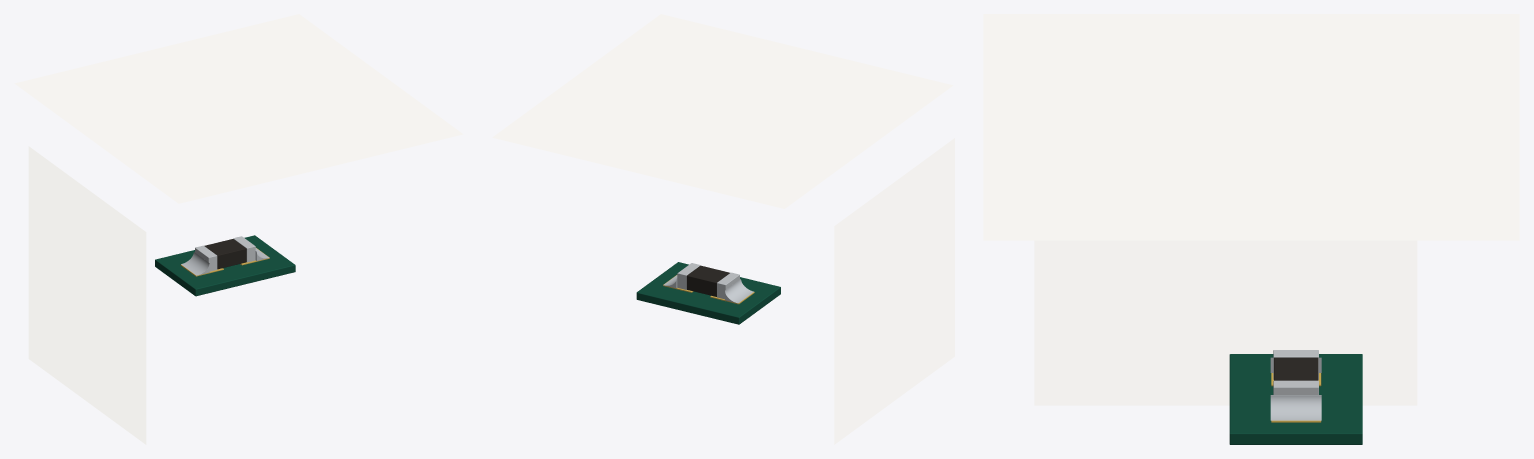
The model's file is B40_JOINT_LOD1.glb.
3 views of the same model, side by side, from view 1: azimuth 30°, elevation 25°; view 2: azimuth 150°, elevation 25°; view 3: azimuth 270°, elevation 25° (orthographic). The views are drawn at different scales.
Parts seen in each view (by area): view 1: CG_CARD_TOP, CG_CARD_SIDE, B40_STATE_GOOD_BOARD, B40_STATE_GOOD_CMP_BODY; view 2: CG_CARD_TOP, CG_CARD_SIDE, B40_STATE_GOOD_BOARD, B40_STATE_GOOD_CMP_BODY; view 3: CG_CARD_TOP, CG_CARD_SIDE, B40_STATE_GOOD_BOARD, B40_STATE_GOOD_FILLET_R, B40_STATE_GOOD_CMP_BODY, B40_STATE_GOOD_CMP_CAP_R.
Boxes of the visible parts, x1,y1,x2,y2 form: CG_CARD_TOP: (14, 14, 463, 203); CG_CARD_SIDE: (28, 146, 146, 444); B40_STATE_GOOD_BOARD: (155, 235, 295, 296); B40_STATE_GOOD_CMP_BODY: (204, 239, 246, 269); CG_CARD_TOP: (492, 14, 953, 208); CG_CARD_SIDE: (834, 138, 954, 444); B40_STATE_GOOD_BOARD: (636, 262, 780, 324); B40_STATE_GOOD_CMP_BODY: (686, 265, 729, 296); CG_CARD_TOP: (983, 14, 1519, 240); CG_CARD_SIDE: (1034, 240, 1417, 405); B40_STATE_GOOD_BOARD: (1229, 354, 1362, 444); B40_STATE_GOOD_FILLET_R: (1270, 395, 1321, 420); B40_STATE_GOOD_CMP_BODY: (1274, 357, 1318, 380); B40_STATE_GOOD_CMP_CAP_R: (1273, 380, 1318, 394).
Bounding box in the file's own units: 10.24 × 8.05 × 9.66.
